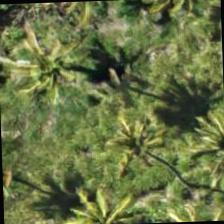Kelapa_Sawit: (100, 96, 192, 190), (0, 18, 88, 112), (175, 97, 223, 190), (56, 176, 149, 223)
